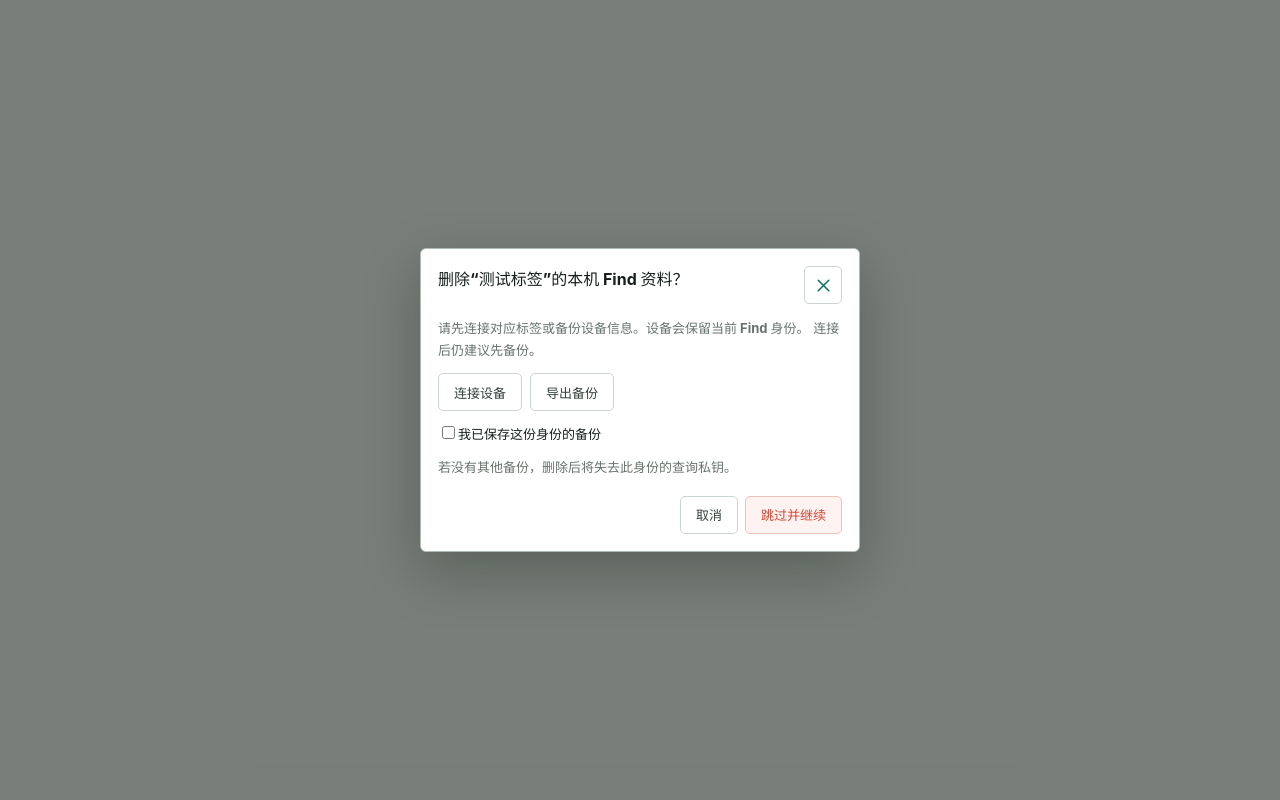
Test: skipping requires a separate warning and cancellation never deletes
The width and height of the screenshot is (1280, 800).
Later steps or results of the test are not shown.
Click the button "跳过并继续".
click(794, 515)  # box [745,496,842,534]
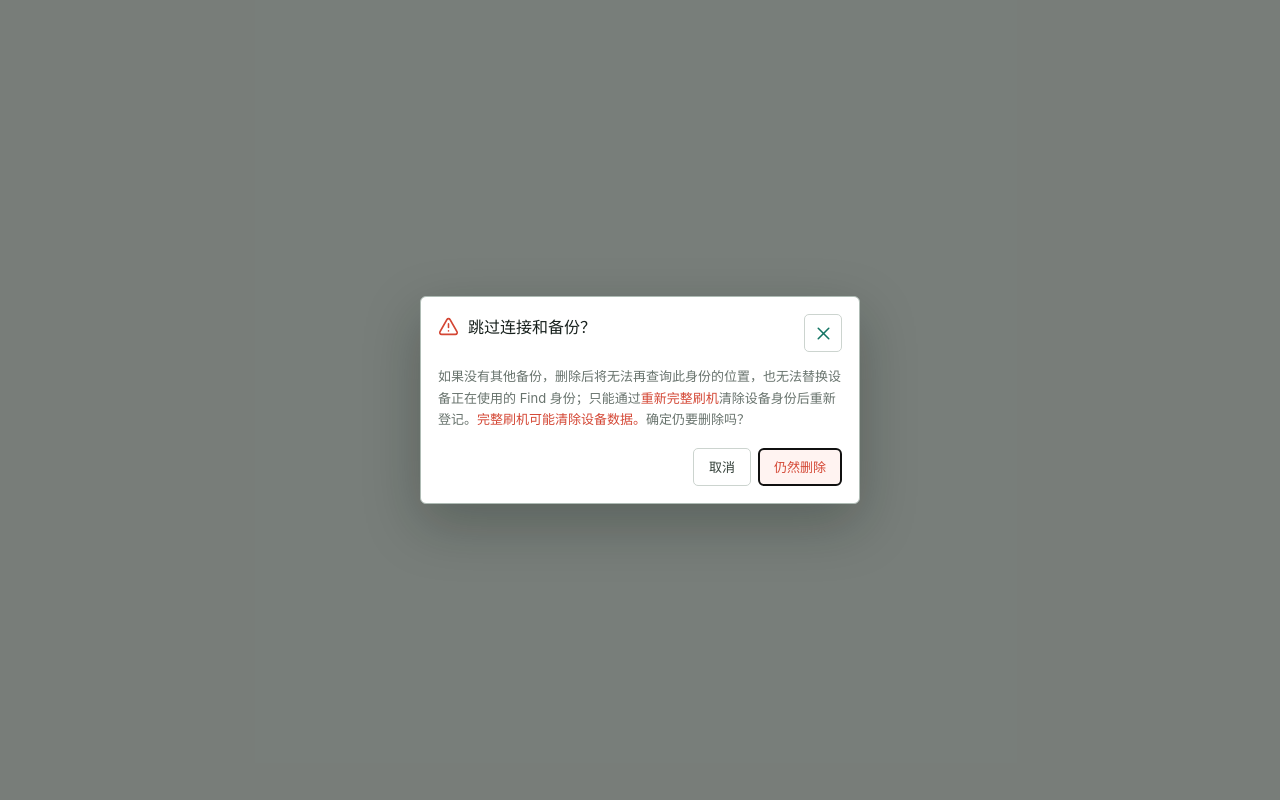
Expected: the text "无法替换设备正在使用的 Find 身份" is shown, [438,368,841,406]
